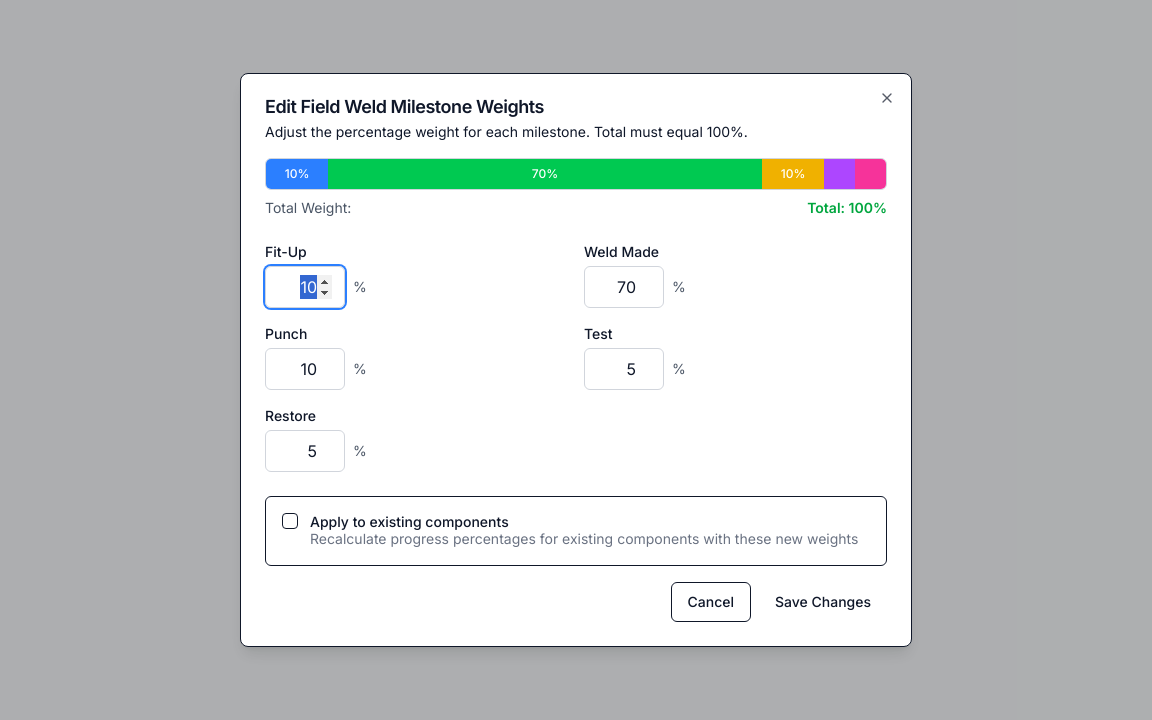
Test: TemplateEditor › hides affected count warning when checkbox is unchecked (US3)
# Check then uncheck the checkbox
Click the checkbox named "apply to existing": (290, 521) 282,513 -> 298,529
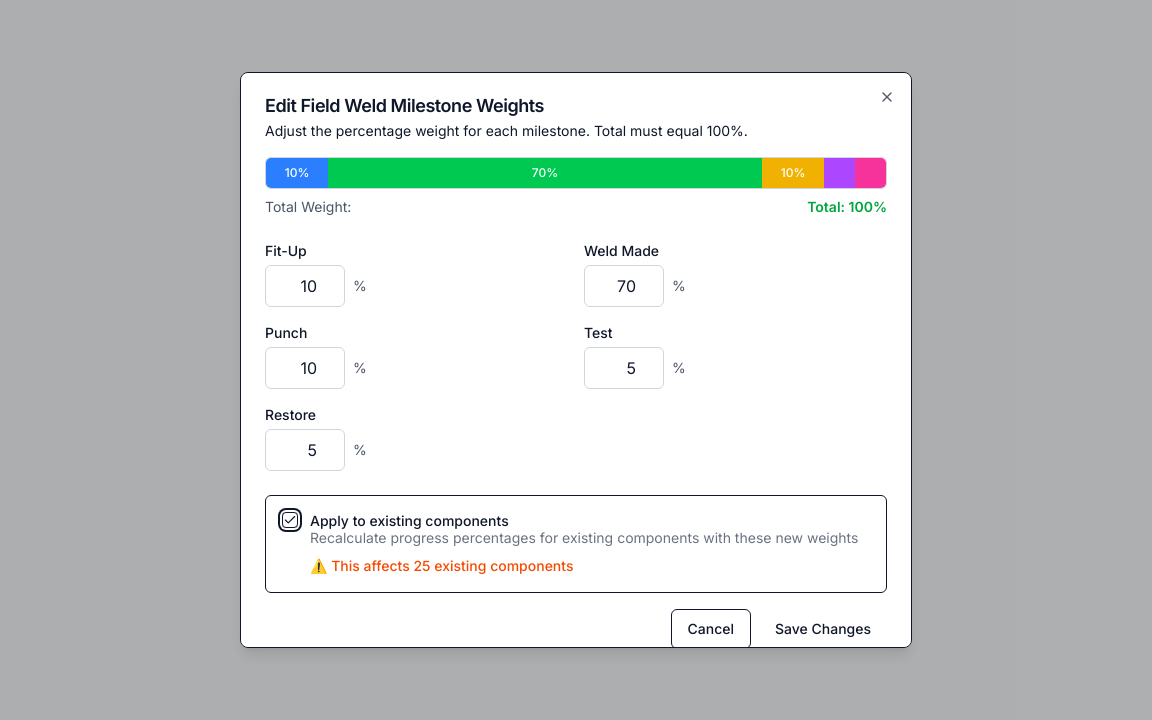
Click the checkbox named "apply to existing": (290, 520) 282,512 -> 298,528
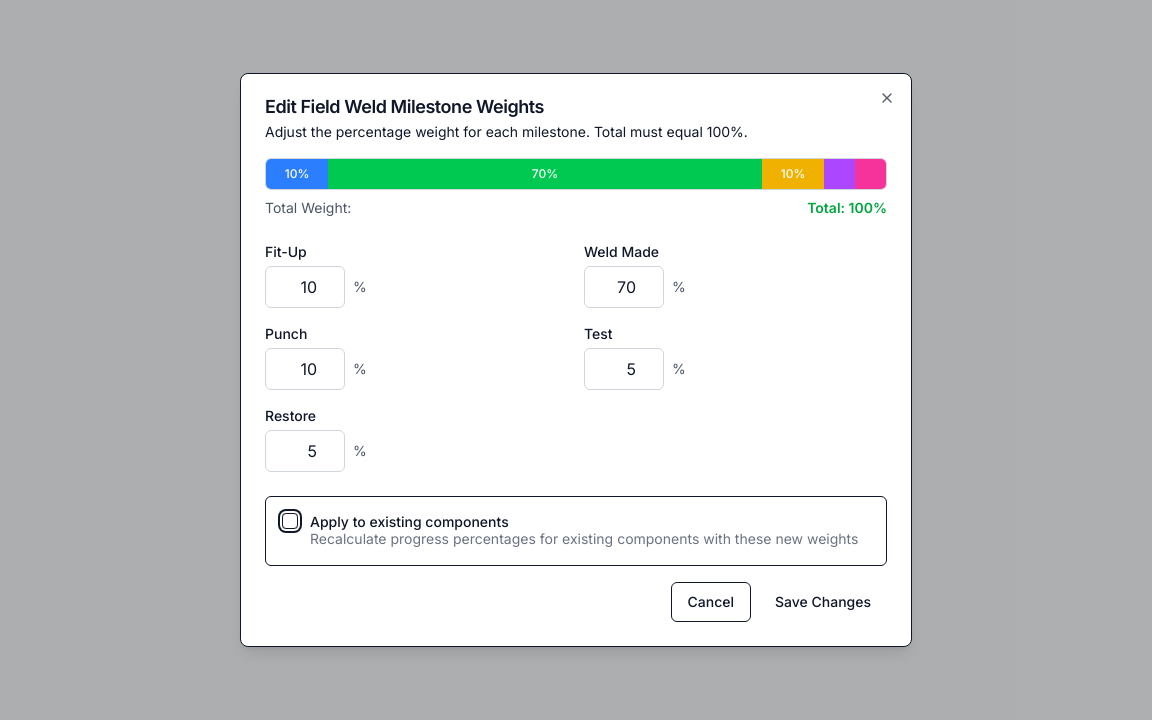
expect the text "This affects 25 existing components" is gone: met
